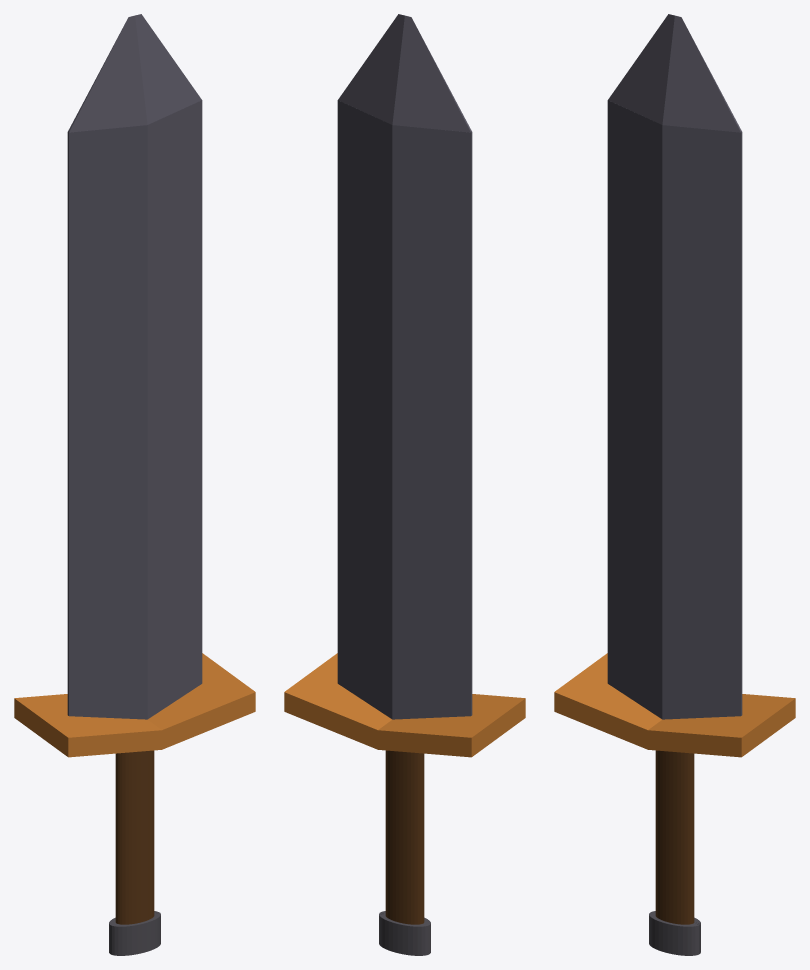
Rendered from Sword.fbx.
3 renders of one model, left to right at view 1: azimuth 30°, elevation 25°; view 2: azimuth 150°, elevation 25°; view 3: azimuth 330°, elevation 25°, orthographic.
Parts seen in each view (by area): view 1: Cube, Cylinder; view 2: Cube, Cylinder; view 3: Cube, Cylinder.
Boxes of the visible parts, x1,y1,x2,y2 form: Cube: [14, 14, 255, 757]; Cylinder: [109, 750, 160, 955]; Cube: [284, 14, 525, 757]; Cylinder: [379, 750, 430, 955]; Cube: [554, 14, 795, 757]; Cylinder: [649, 750, 700, 955].
Size of the model in its own units: 400 by 1901 by 200.
